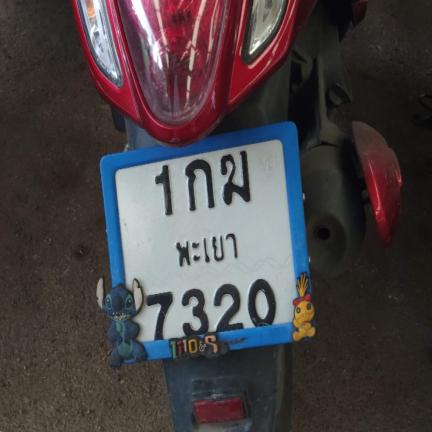0: (248, 280, 278, 326)
1: (151, 162, 178, 220)
2: (212, 282, 247, 334)
3: (179, 287, 209, 339)
7: (144, 289, 175, 343)
A01: (180, 159, 217, 215)
A06: (218, 148, 253, 206)
PYO: (169, 225, 244, 275)
